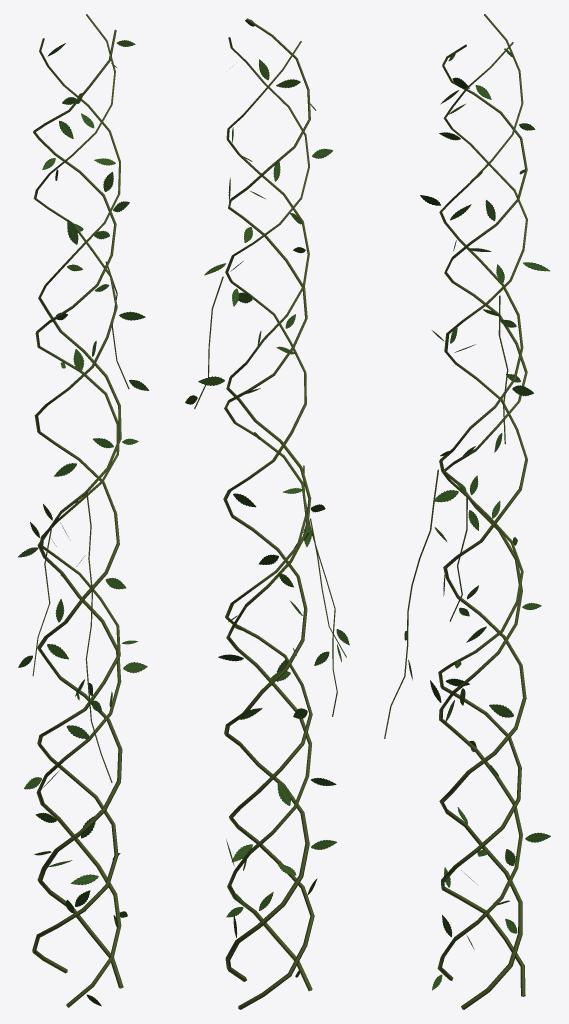
The model's file is liana_climb_thorn_08_lod1.gltf.
The picture shows the model from 3 angles, left to right: view 1: azimuth 30°, elevation 25°; view 2: azimuth 150°, elevation 25°; view 3: azimuth 270°, elevation 25°; orthographic projection.
Parts seen in each view (by area): view 1: liana_climb_thorn_08; view 2: liana_climb_thorn_08; view 3: liana_climb_thorn_08.
Part boxes in pixels (x1=…): liana_climb_thorn_08: x1=18, y1=14, x2=149, y2=1007; liana_climb_thorn_08: x1=185, y1=18, x2=349, y2=1009; liana_climb_thorn_08: x1=384, y1=14, x2=550, y2=1009.
Size of the model in its own units: 0.808 by 5.03 by 0.8057.
Materials: 2 (2 with a texture image).
